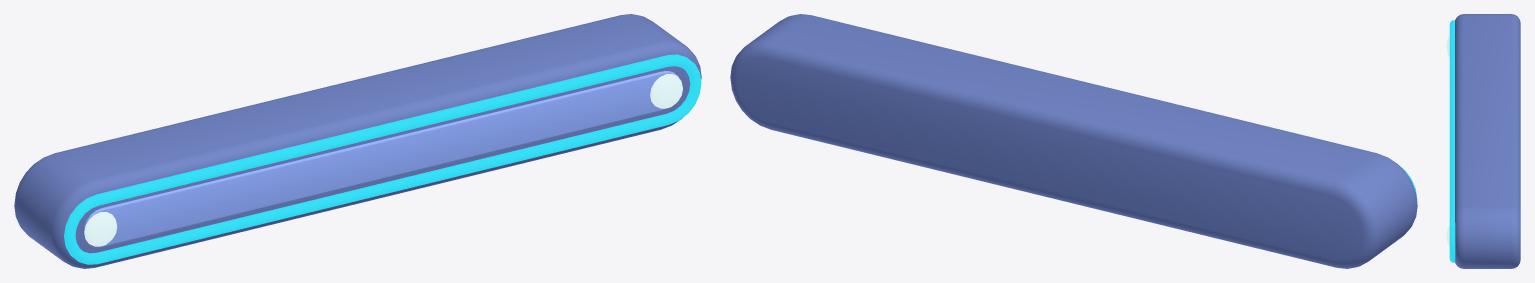
File: paddle_vanlig_280.glb
The picture shows the model from 3 angles, left to right: view 1: azimuth 30°, elevation 25°; view 2: azimuth 150°, elevation 25°; view 3: azimuth 270°, elevation 25°; orthographic projection. The views are drawn at different scales.
Parts seen in each view (by area): view 1: paddle_vanlig; view 2: paddle_vanlig; view 3: paddle_vanlig.
Part boxes in pixels (x1,y1,x2,y2): paddle_vanlig: [14, 14, 701, 268]; paddle_vanlig: [730, 14, 1417, 268]; paddle_vanlig: [1446, 14, 1520, 268].
Bounding box in the file's own units: 2.8 × 0.36 × 0.405.
